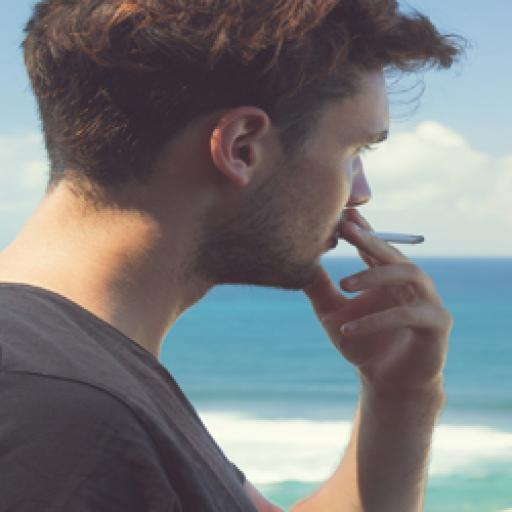terdeteksi merokok: (300, 110, 440, 312)
